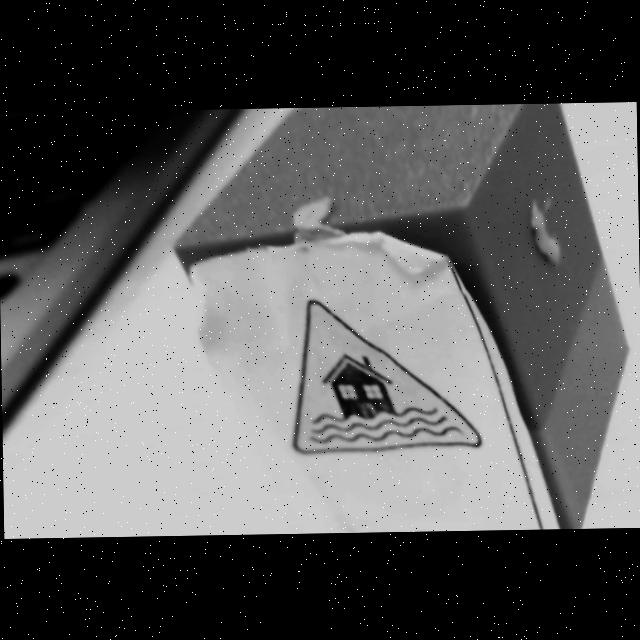Tsunami: (294, 300, 482, 453)
